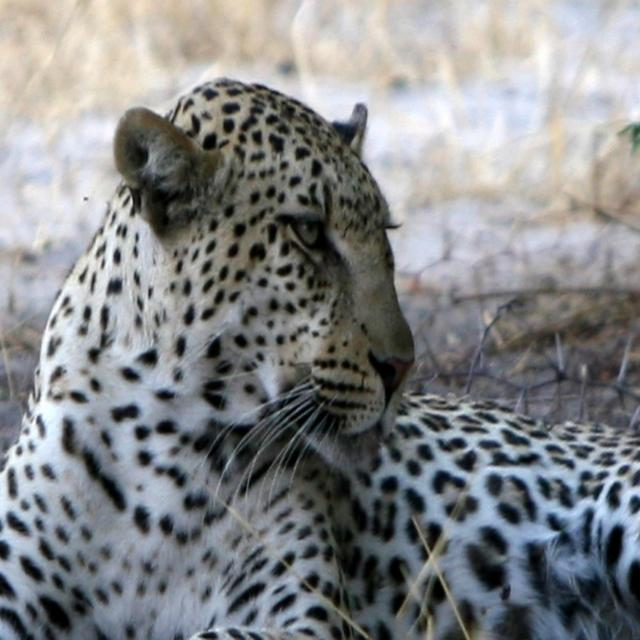Leopard: (0, 53, 640, 640)
